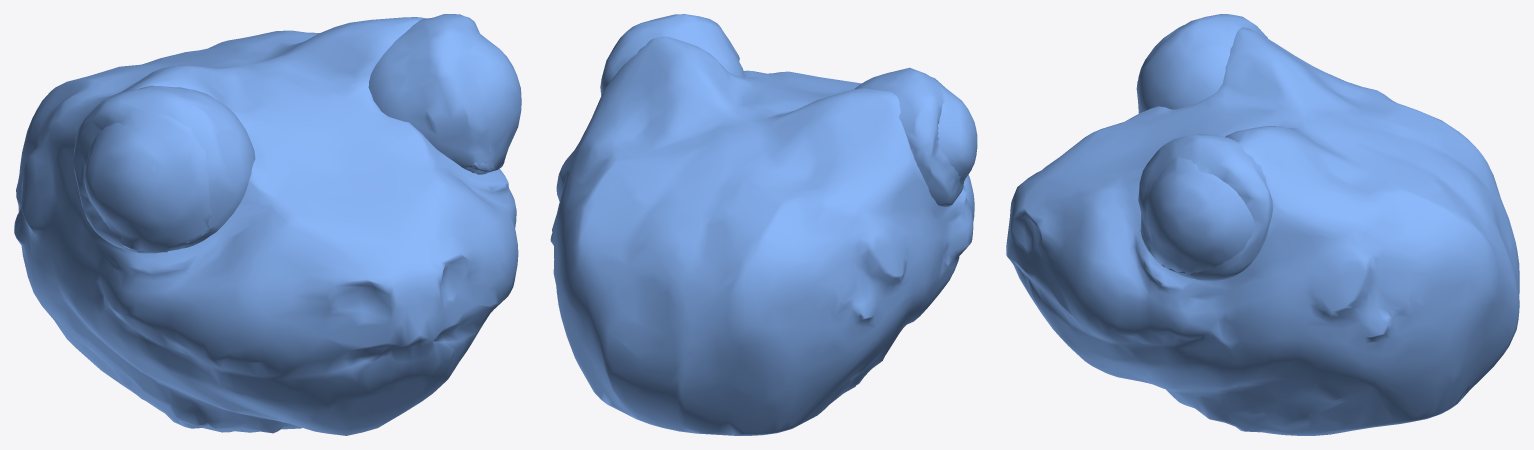
Rendered from FrogHead_Decimate.fbx.
3 renders of one model, left to right at view 1: azimuth 30°, elevation 25°; view 2: azimuth 150°, elevation 25°; view 3: azimuth 270°, elevation 25°, orthographic. The views are drawn at different scales.
Visible parts, largest first — view 1: PM3D_FrogHead; view 2: PM3D_FrogHead; view 3: PM3D_FrogHead.
Boxes of the visible parts, <box> form: PM3D_FrogHead: <box>14,14,521,435</box>; PM3D_FrogHead: <box>550,14,977,435</box>; PM3D_FrogHead: <box>1006,14,1519,435</box>.
Bounding box in the file's own units: 0.3331 × 0.2933 × 0.4038.
